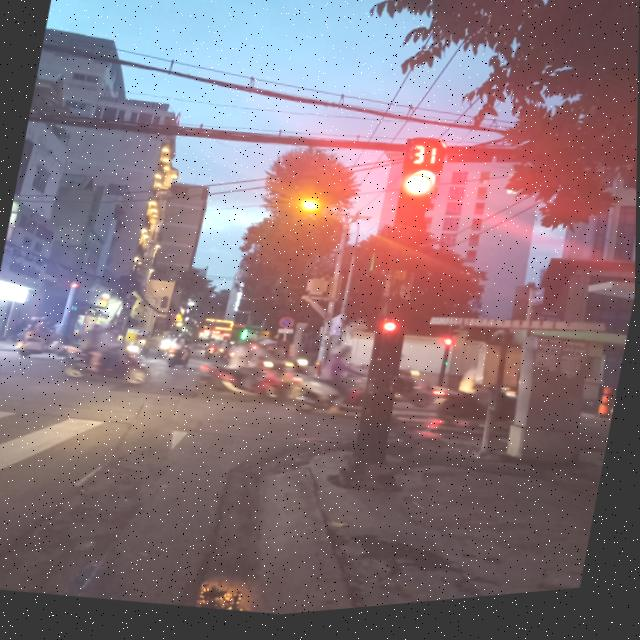Red: (387, 170, 438, 266), (368, 321, 406, 379)
